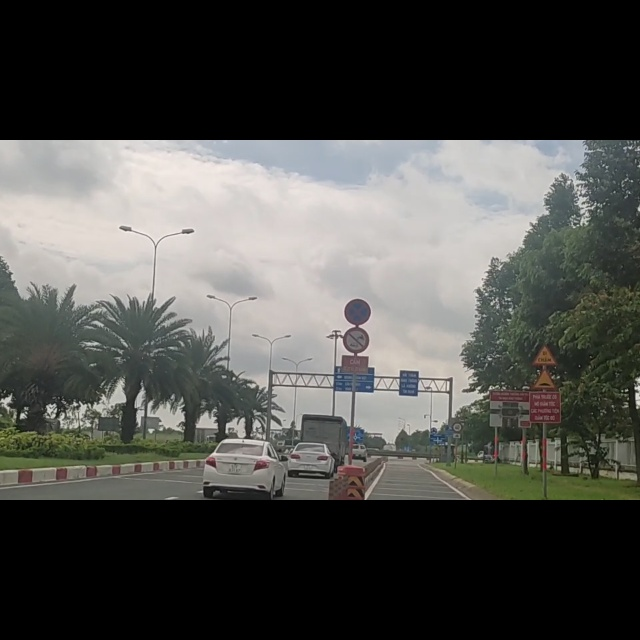bien_nguy_hiem: (341, 329, 372, 378), (343, 282, 372, 327), (531, 405, 558, 444), (531, 361, 557, 399)
